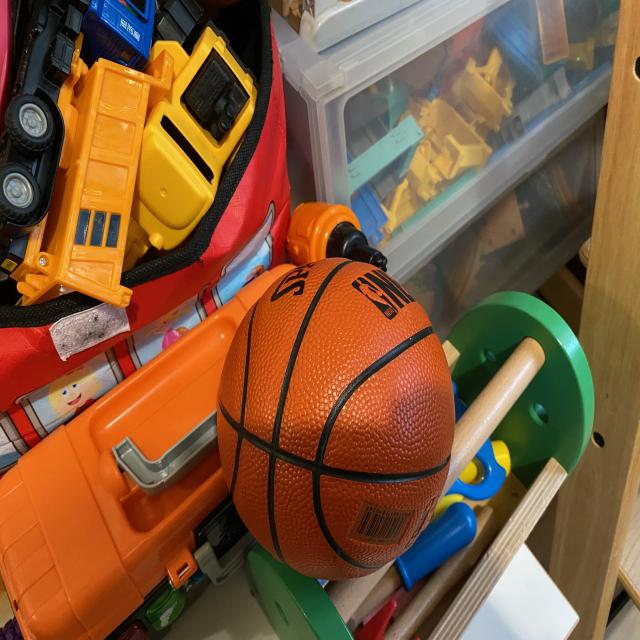Ball: (196, 228, 474, 608)
